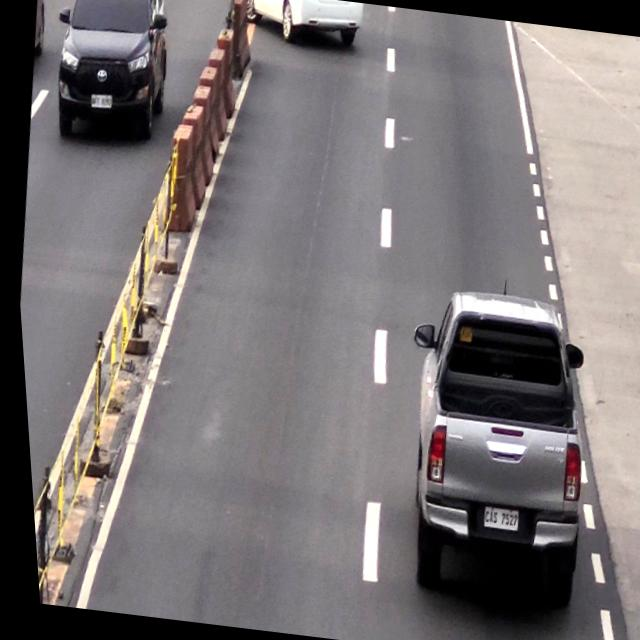Car: (389, 288, 587, 602)
License-Plate: (473, 502, 516, 538)
